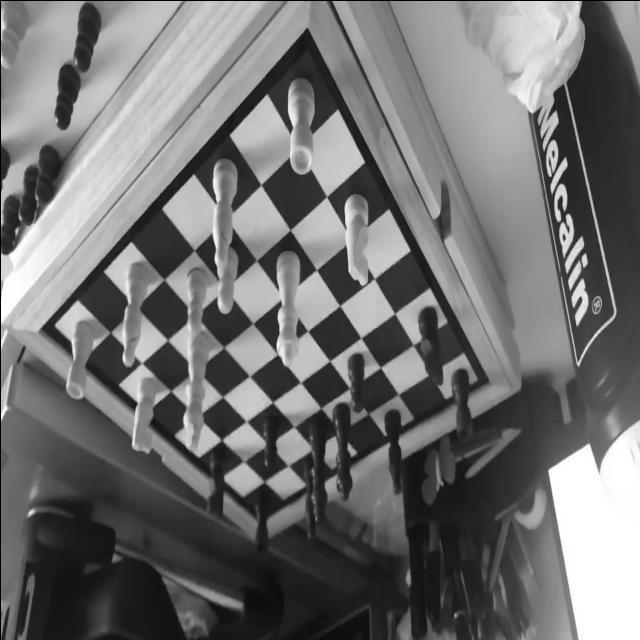chess-table-corners: (294, 18, 328, 58), (30, 313, 62, 352), (470, 369, 496, 397), (250, 506, 271, 530)
